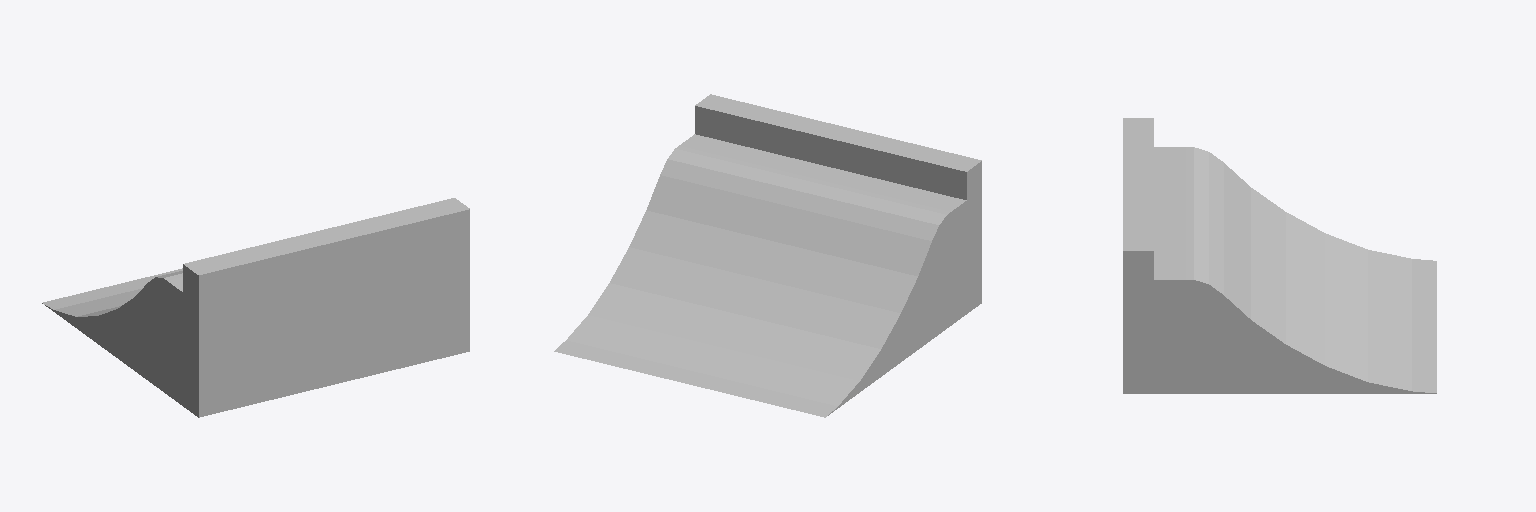
File: Quater_SML_EuroGap_Full.obj
3 views of the same model, side by side, from view 1: azimuth 30°, elevation 25°; view 2: azimuth 150°, elevation 25°; view 3: azimuth 270°, elevation 25° (orthographic).
Visible parts, largest first — view 1: Quater_SML_EuroGap_Full; view 2: Quater_SML_EuroGap_Full; view 3: Quater_SML_EuroGap_Full.
Boxes of the visible parts, box(x1,y1,x2,y2) form: Quater_SML_EuroGap_Full: box(42, 198, 469, 417); Quater_SML_EuroGap_Full: box(554, 94, 981, 417); Quater_SML_EuroGap_Full: box(1123, 118, 1436, 393).
Bounding box in the file's own units: 10 × 5 × 10.